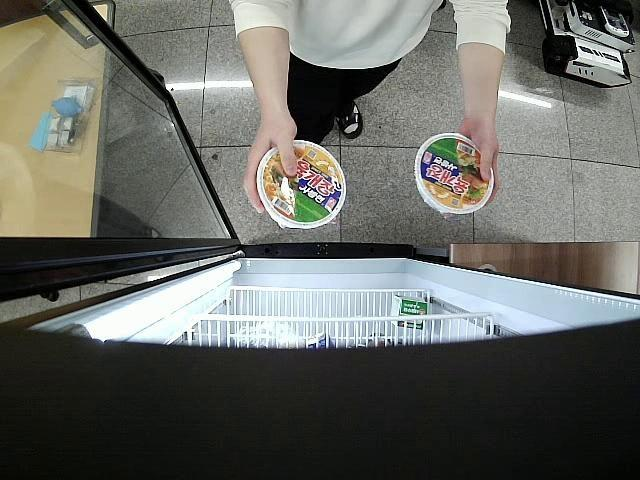09_yukGaeJang: (258, 140, 346, 229), (414, 132, 493, 214)
